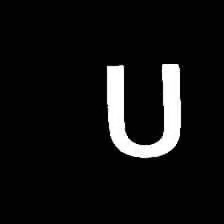LTR_U: (98, 55, 194, 163)
